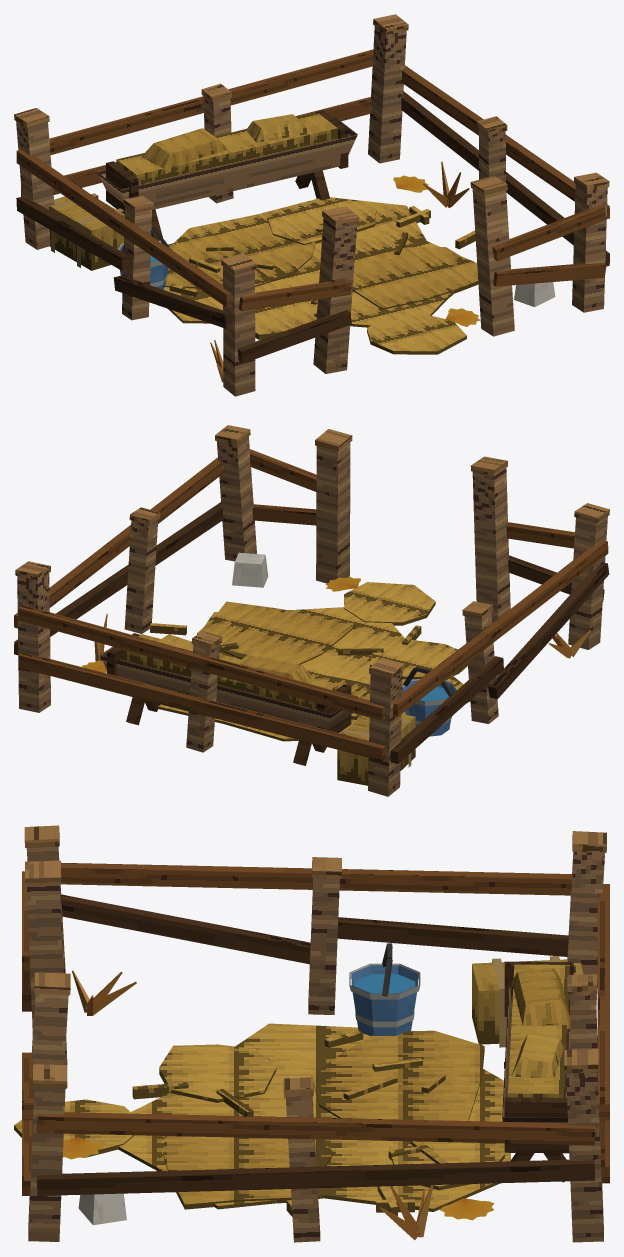
Rendered from animal_pen.glb.
3 renders of one model, top to bottom at view 1: azimuth 30°, elevation 25°; view 2: azimuth 150°, elevation 25°; view 3: azimuth 270°, elevation 25°, orthographic. The views are drawn at different scales.
Visible parts, largest first — view 1: animal_pen; view 2: animal_pen; view 3: animal_pen.
Boxes of the visible parts, x1,y1,x2,y2 form: animal_pen: [14, 14, 609, 396]; animal_pen: [14, 425, 609, 796]; animal_pen: [14, 825, 609, 1242].
Size of the model in its own units: 3.59 by 1.41 by 3.63.
Materials: 19 (11 with a texture image).
